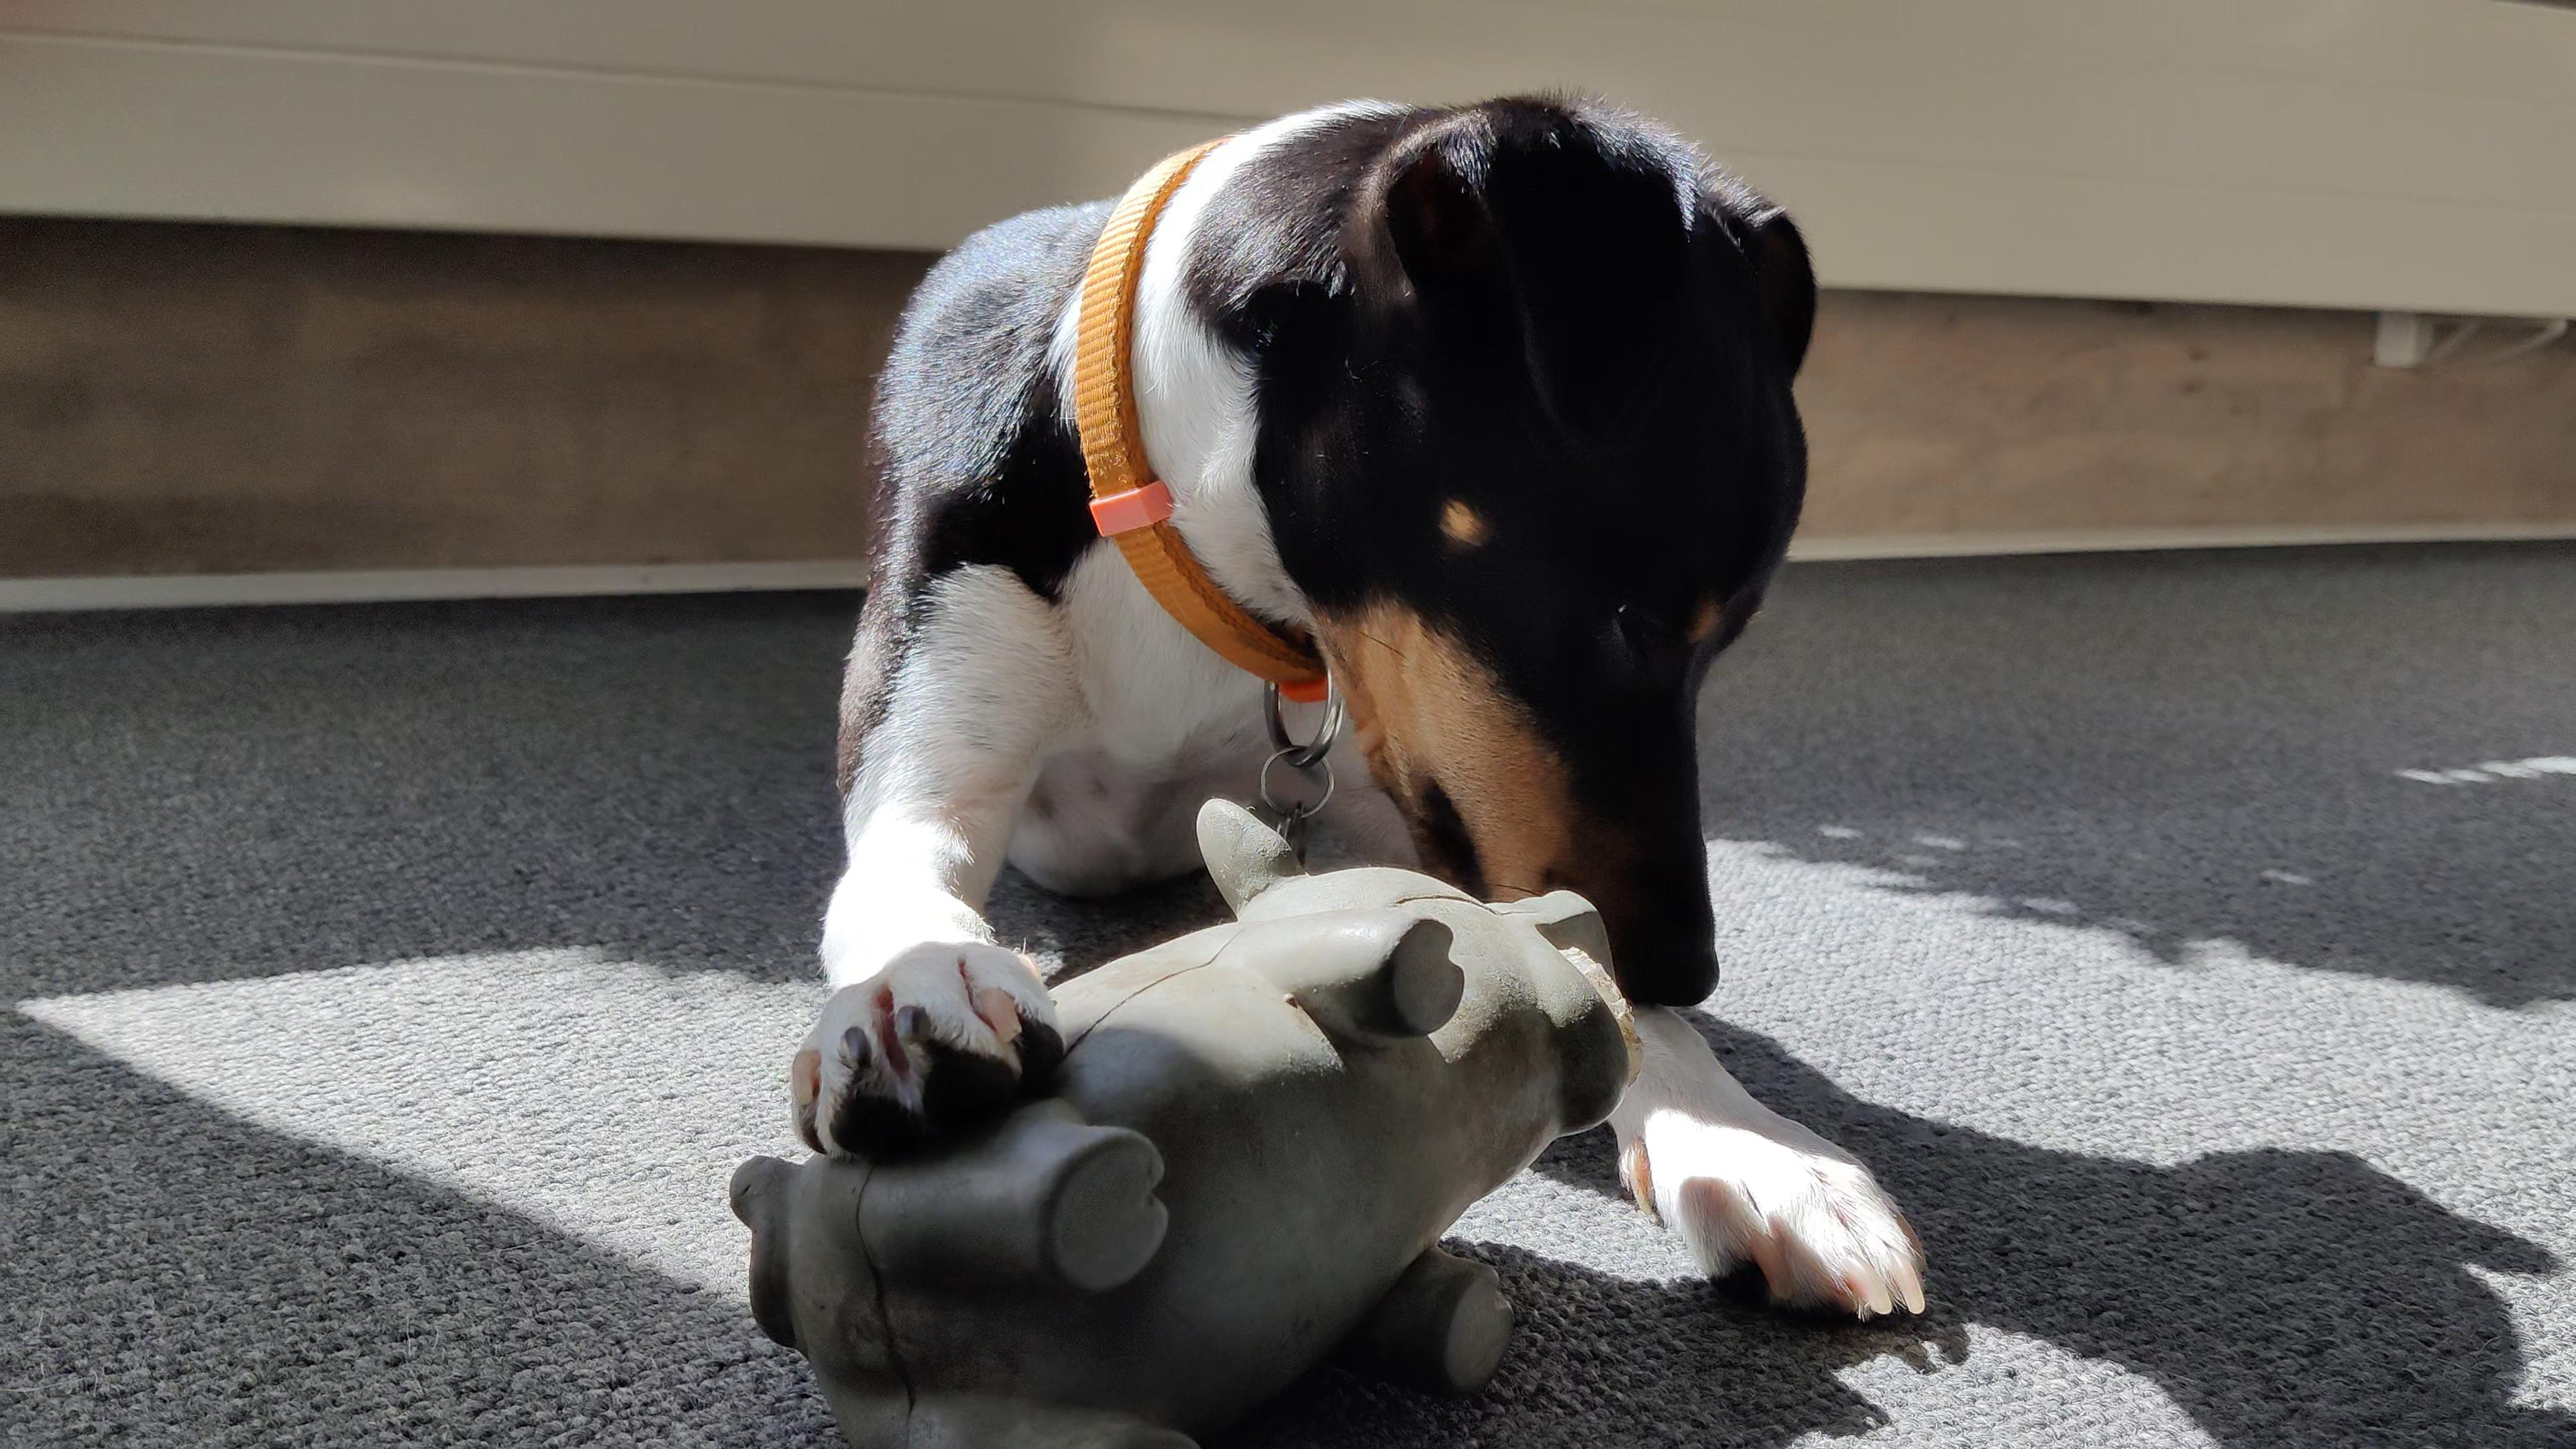Dog: (782, 80, 1946, 1330)
